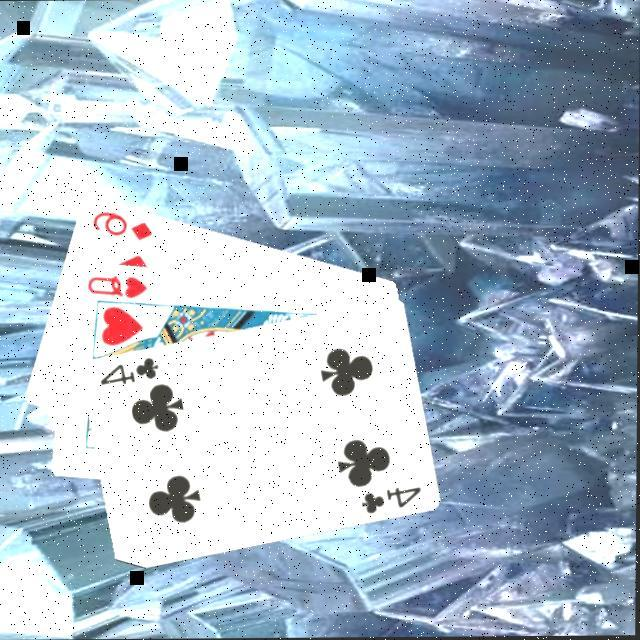4C: (357, 481, 423, 515), (96, 352, 160, 386)
6D: (88, 206, 154, 242)
QH: (83, 270, 149, 300)
